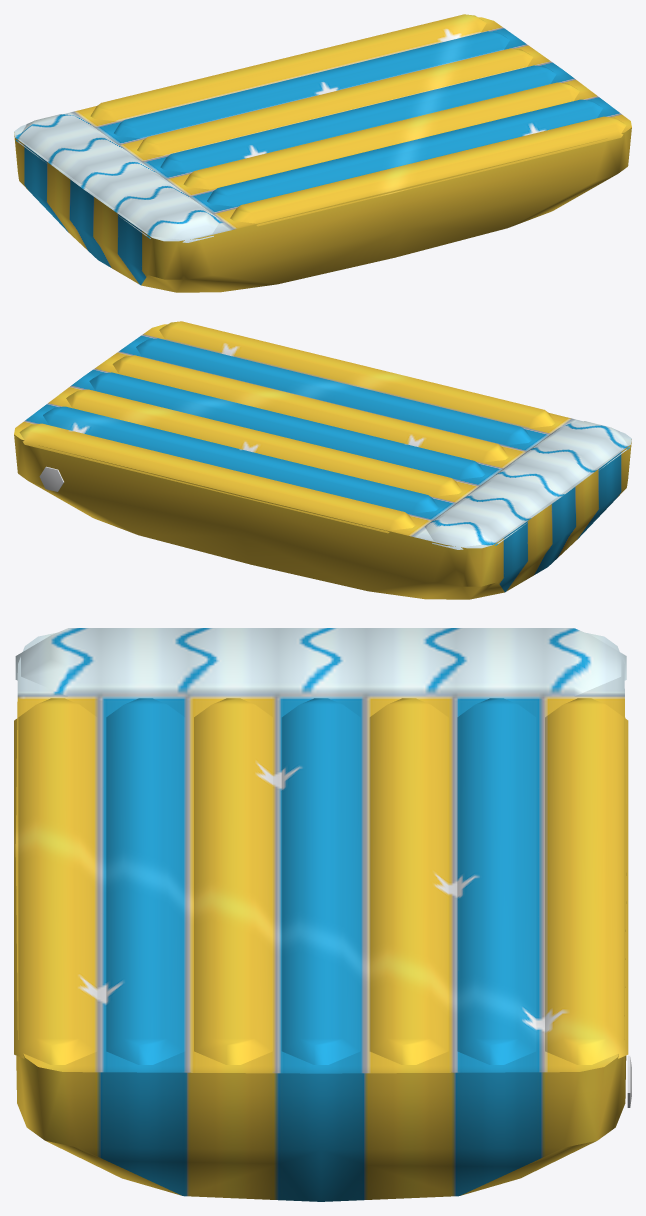
Rendered from pool_air_mattress_lod1.glb.
3 views of the same model, one above another, from view 1: azimuth 30°, elevation 25°; view 2: azimuth 150°, elevation 25°; view 3: azimuth 270°, elevation 25° (orthographic). The views are drawn at different scales.
Visible parts, largest first — view 1: pool_air_mattress_LOD1; view 2: pool_air_mattress_LOD1; view 3: pool_air_mattress_LOD1.
Boxes of the visible parts, x1=… form: pool_air_mattress_LOD1: x1=14, y1=14, x2=631, y2=292; pool_air_mattress_LOD1: x1=14, y1=321, x2=631, y2=599; pool_air_mattress_LOD1: x1=14, y1=628, x2=631, y2=1201.
Size of the model in its own units: 12 by 2.02 by 7.04.
Materials: 1 (1 with a texture image).
